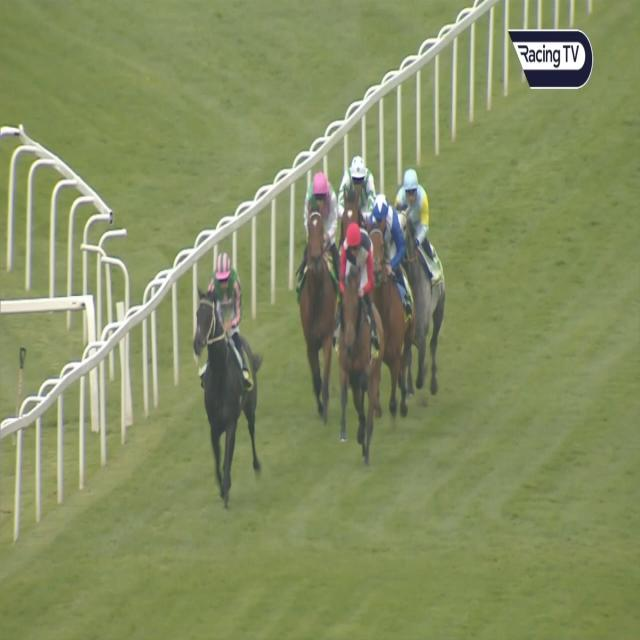horses-racing: (191, 254, 265, 496), (398, 166, 464, 404), (337, 220, 390, 452), (368, 186, 416, 409), (301, 171, 340, 394), (340, 156, 374, 214)
